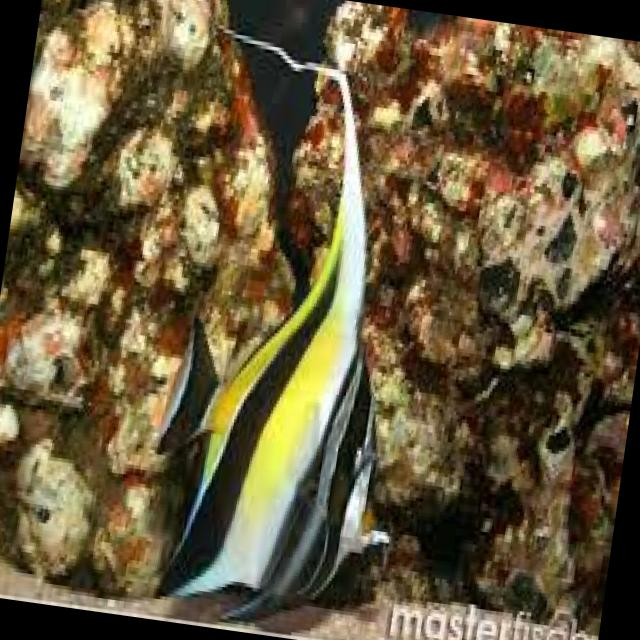MorishIdol: (133, 24, 456, 640)
